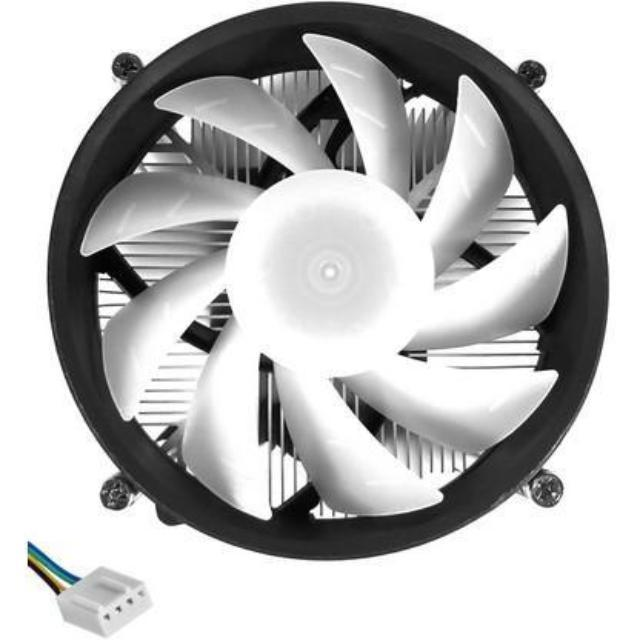CPU_Fan: (45, 1, 610, 539)
